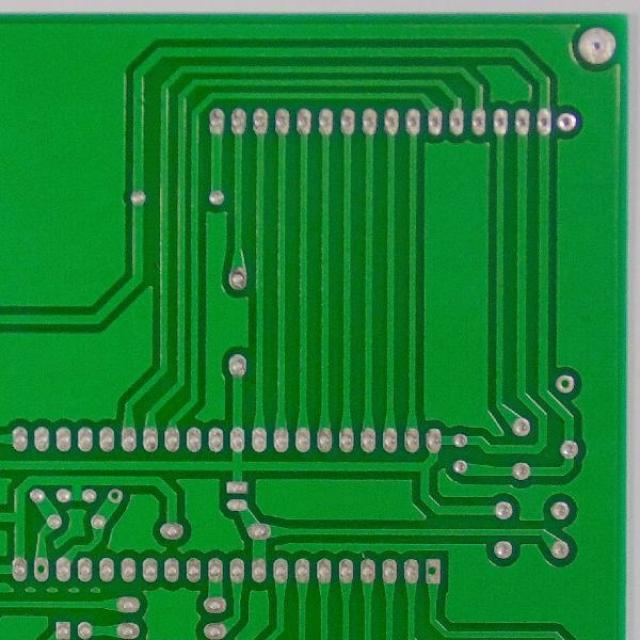Missing_Hole: (422, 557, 443, 584), (31, 556, 51, 581), (555, 373, 576, 395), (106, 486, 124, 504)
